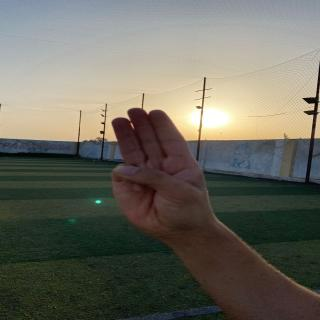THA: (91, 104, 245, 236)
